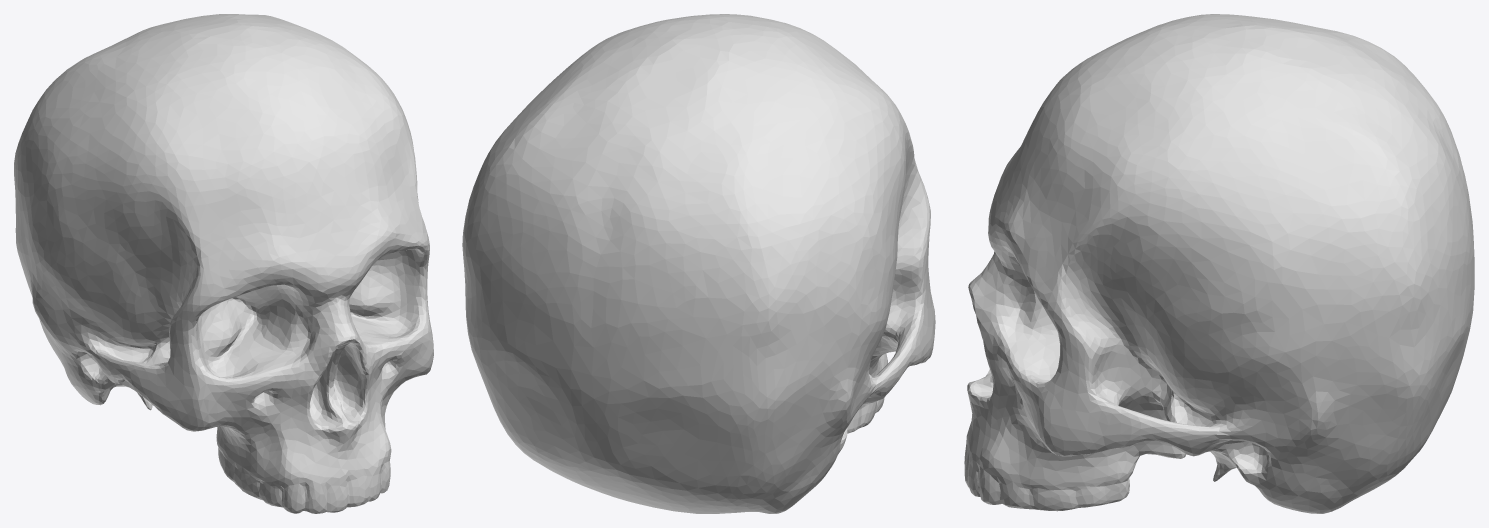
File: skull01.glb
3 renders of one model, left to right at view 1: azimuth 30°, elevation 25°; view 2: azimuth 150°, elevation 25°; view 3: azimuth 270°, elevation 25°, orthographic. The views are drawn at different scales.
Visible parts, largest first — view 1: Low; view 2: Low; view 3: Low.
Part boxes in pixels (x1,y1,x2,y2): Low: (14, 14, 433, 513); Low: (462, 14, 935, 513); Low: (964, 14, 1474, 513).
Bounding box in the file's own units: 1.73 × 1.9 × 1.99.
1 material, 1 textured.
